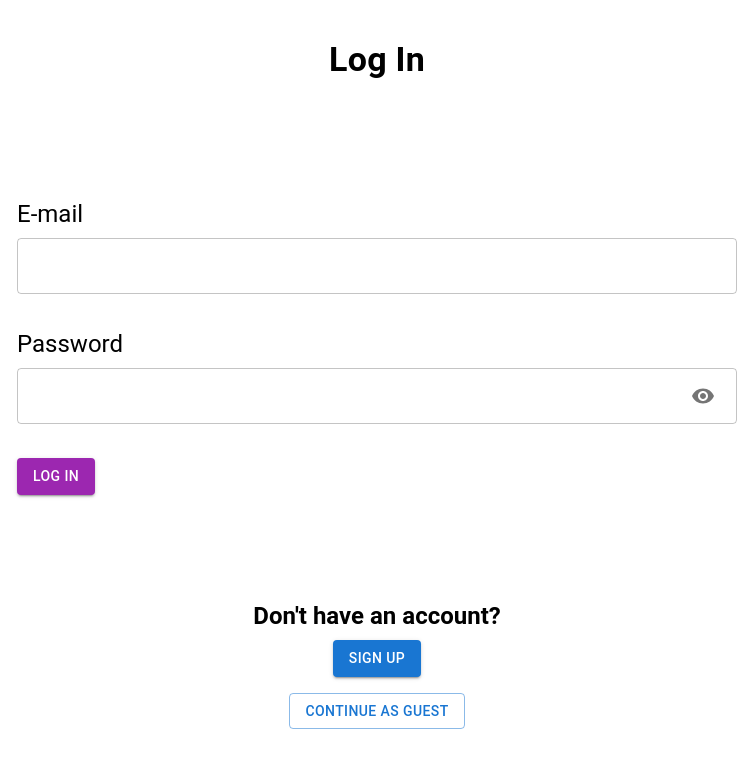
Test: Login Page › Show error message if invalid login
The image size is (754, 777).
Type "test@gmail.com" into the field labelled "E-mail" at (377, 266), box [17, 238, 737, 294]
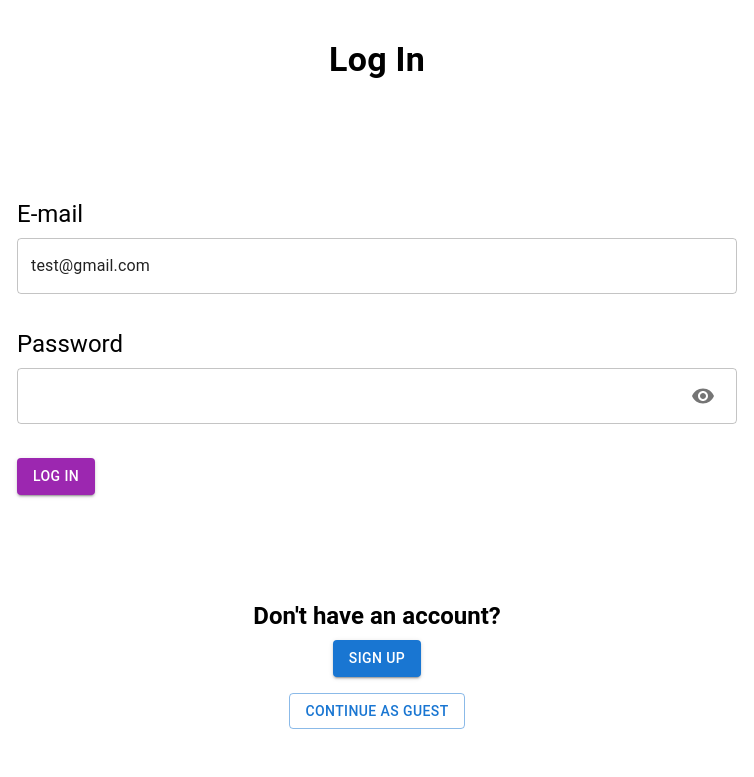
Type "password123" into the password field labelled "Password" at (346, 396), box [17, 368, 675, 424]
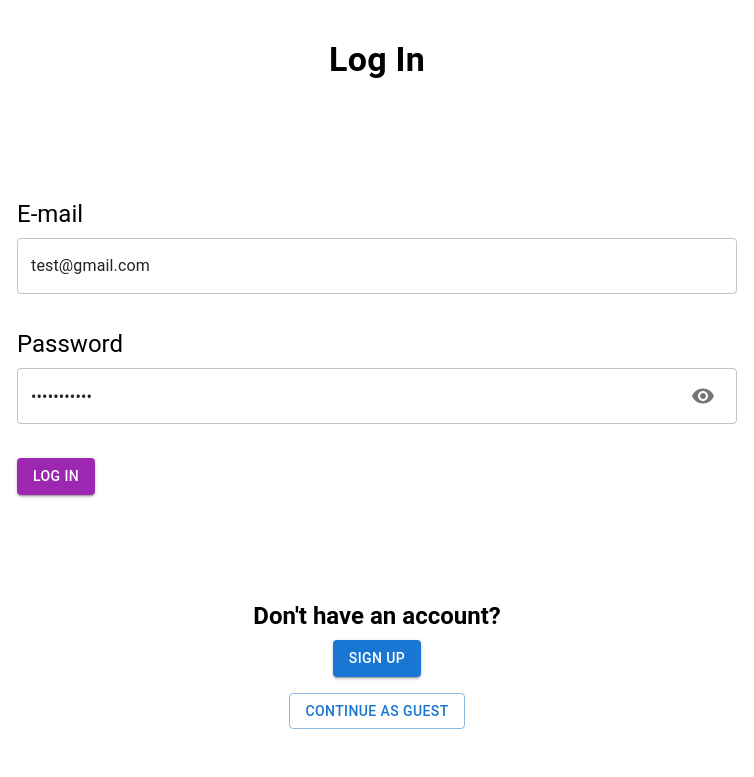
Click the button "Log in" at (56, 477), box [17, 458, 95, 495]
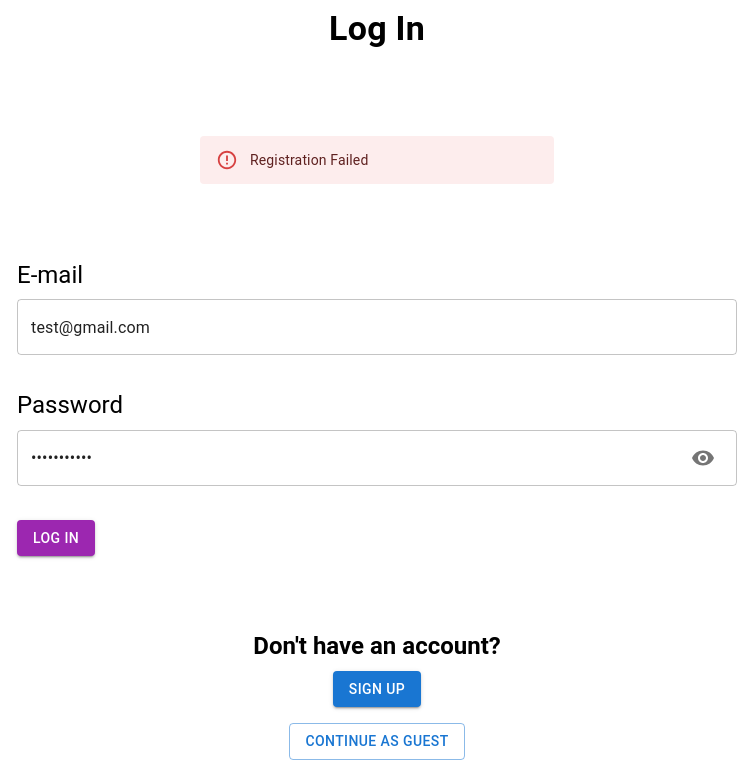
Expected: the message "Registration Failed" is shown, [200, 136, 554, 184]
